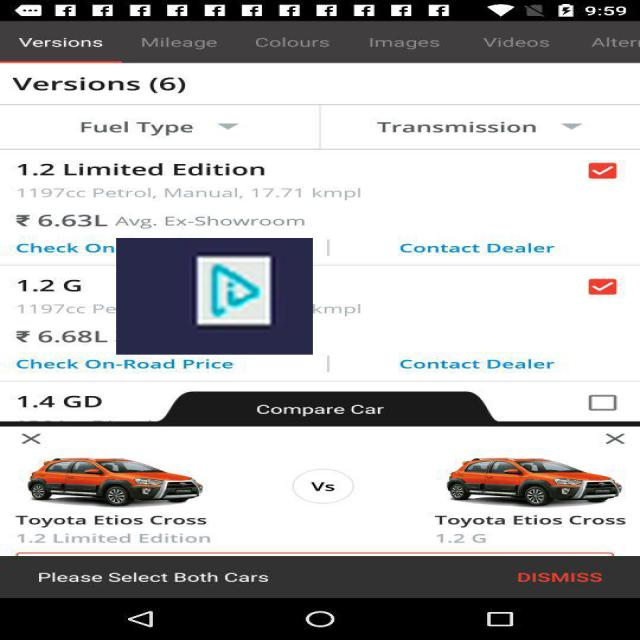sneaking: (116, 238, 313, 355)
